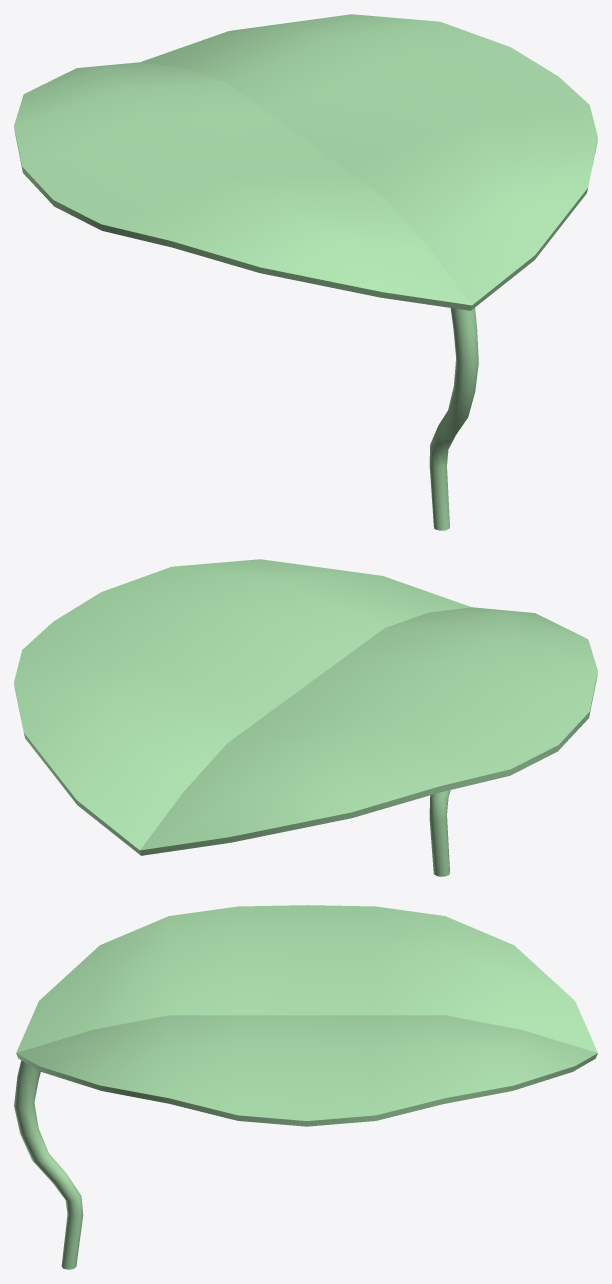
File: pullable_mesh.glb
3 views of the same model, one above another, from view 1: azimuth 30°, elevation 25°; view 2: azimuth 150°, elevation 25°; view 3: azimuth 270°, elevation 25° (orthographic). The views are drawn at different scales.
Visible parts, largest first — view 1: pullable_mesh; view 2: pullable_mesh; view 3: pullable_mesh.
Boxes of the visible parts, bbox=[...] form: pullable_mesh: bbox=[14, 14, 597, 530]; pullable_mesh: bbox=[14, 559, 597, 876]; pullable_mesh: bbox=[14, 905, 597, 1269].
Bounding box in the file's own units: 0.8587 × 0.4985 × 0.9812.
